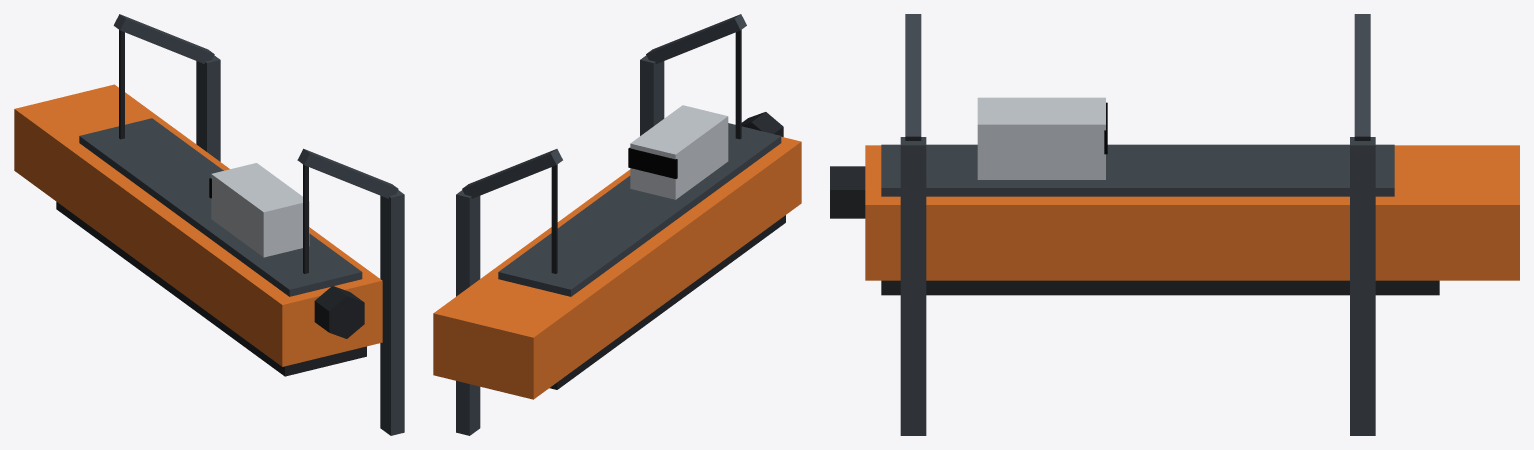
Rendered from env_carrier_boat.fbx.
3 views of the same model, side by side, from view 1: azimuth 30°, elevation 25°; view 2: azimuth 150°, elevation 25°; view 3: azimuth 270°, elevation 25° (orthographic). The views are drawn at different scales.
Visible parts, largest first — view 1: env_carrier_boat; view 2: env_carrier_boat; view 3: env_carrier_boat.
Part boxes in pixels (x1,y1,x2,y2): env_carrier_boat: [14, 14, 404, 435]; env_carrier_boat: [433, 14, 801, 435]; env_carrier_boat: [830, 14, 1519, 435].
Size of the model in its own units: 600 by 1261 by 2150.
